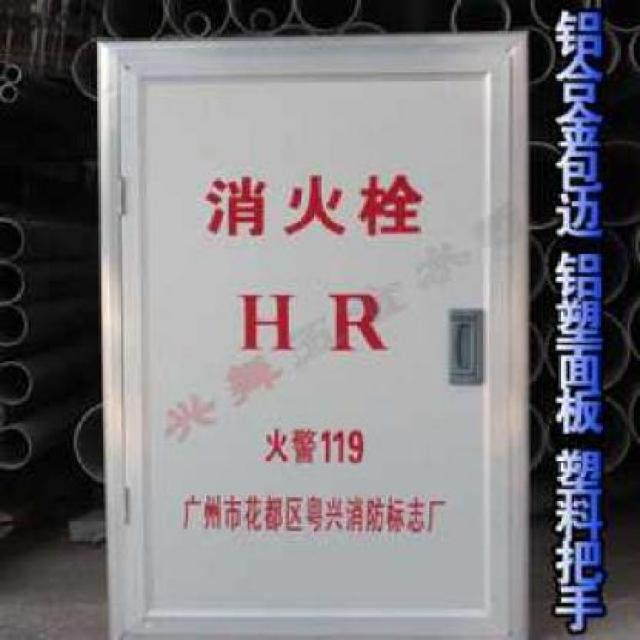firehydrant: (92, 26, 537, 640)
